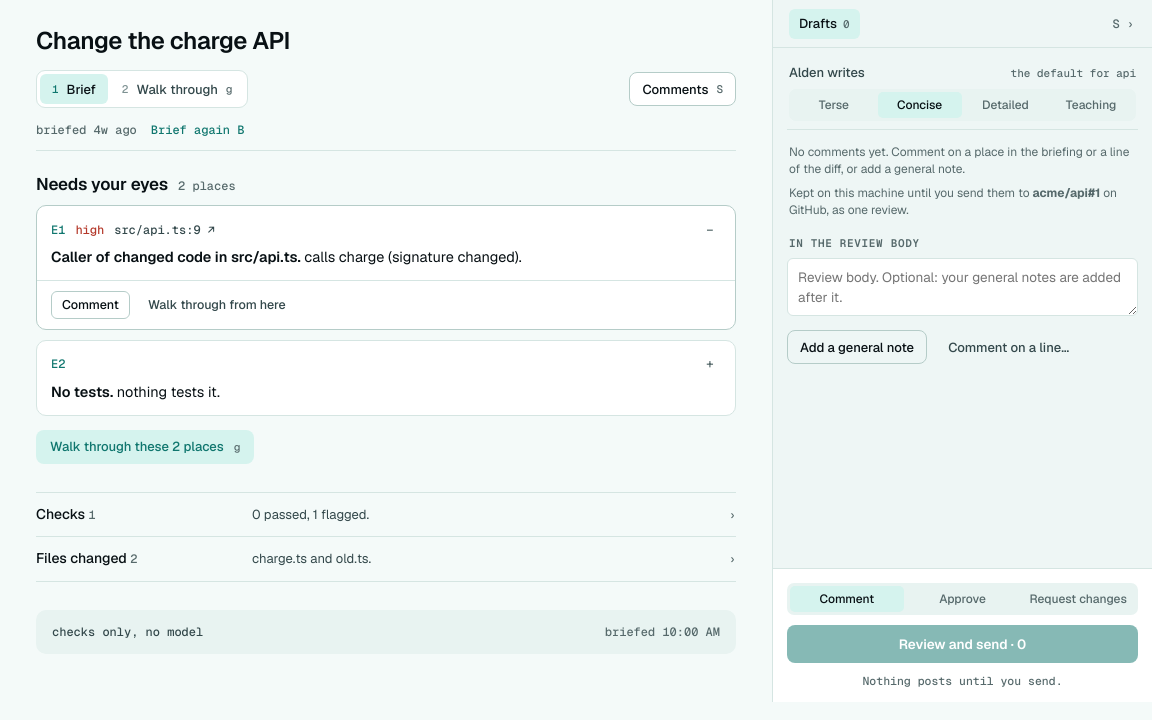
Test case: Alden writes › shows the repo's tone, and changes it for the repo
This screenshot has width=1152, height=720.
Expected: the text "the default for api" is shown, [1011,66,1136,80]
What coordinates should you click on to do the following:
click the button "Teaching"
I would click on:
 (1091, 105)
Its box is [1049,92,1133,118].
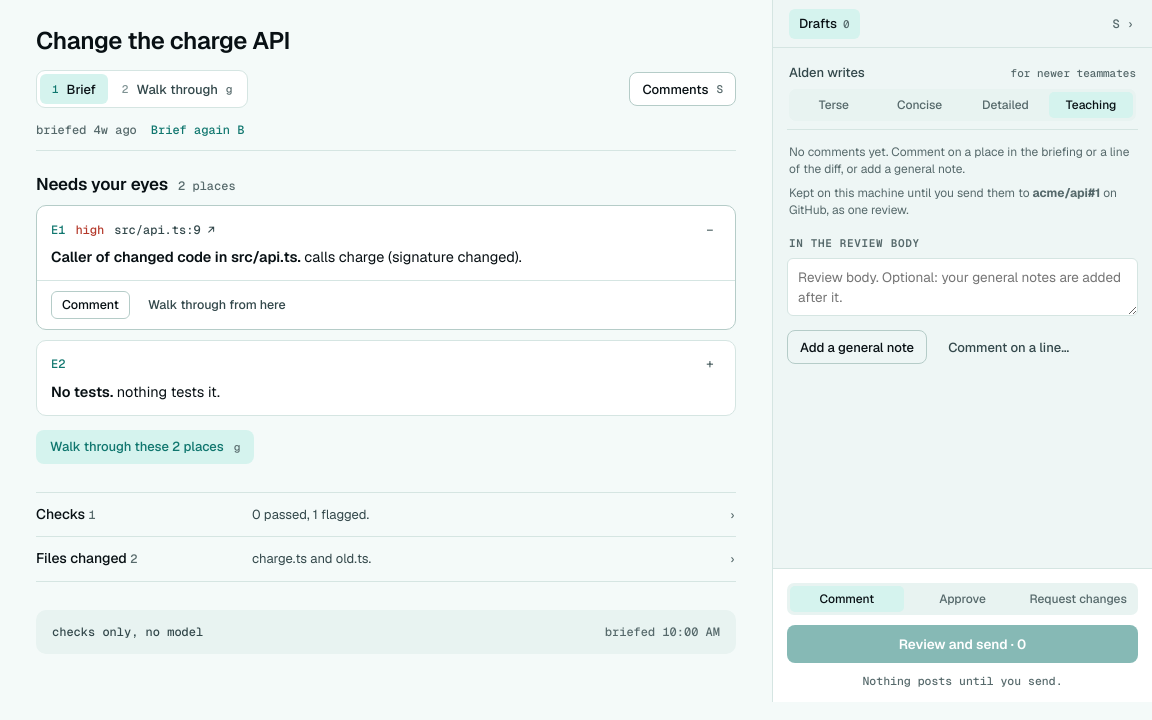
Now the text "for newer teammates" is shown, box [1011,66,1136,80]
